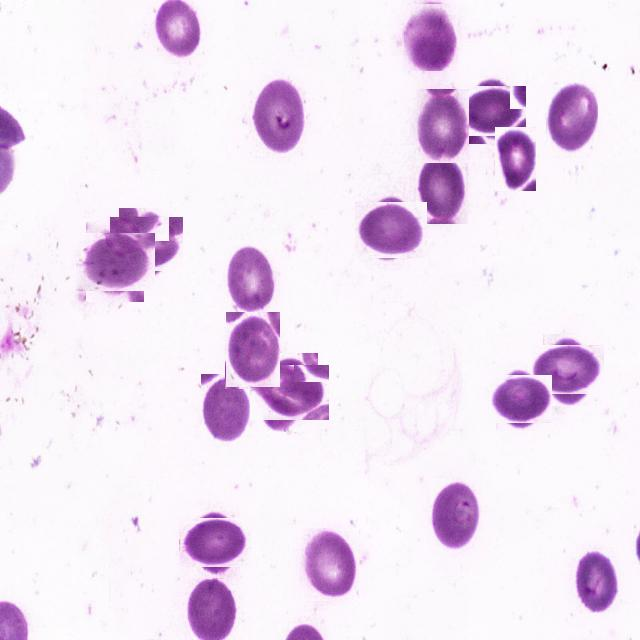red blood cell: (80, 228, 150, 296), (256, 359, 324, 426), (252, 75, 306, 156), (302, 526, 359, 600), (225, 312, 280, 388), (359, 198, 423, 262), (114, 212, 178, 276), (222, 245, 277, 317), (546, 81, 598, 156), (417, 89, 469, 163), (184, 512, 246, 574), (430, 479, 481, 554), (201, 372, 252, 447), (416, 151, 468, 224), (402, 4, 458, 71), (538, 339, 598, 400), (464, 82, 522, 140), (492, 371, 548, 426), (573, 549, 619, 613), (495, 127, 536, 191)
